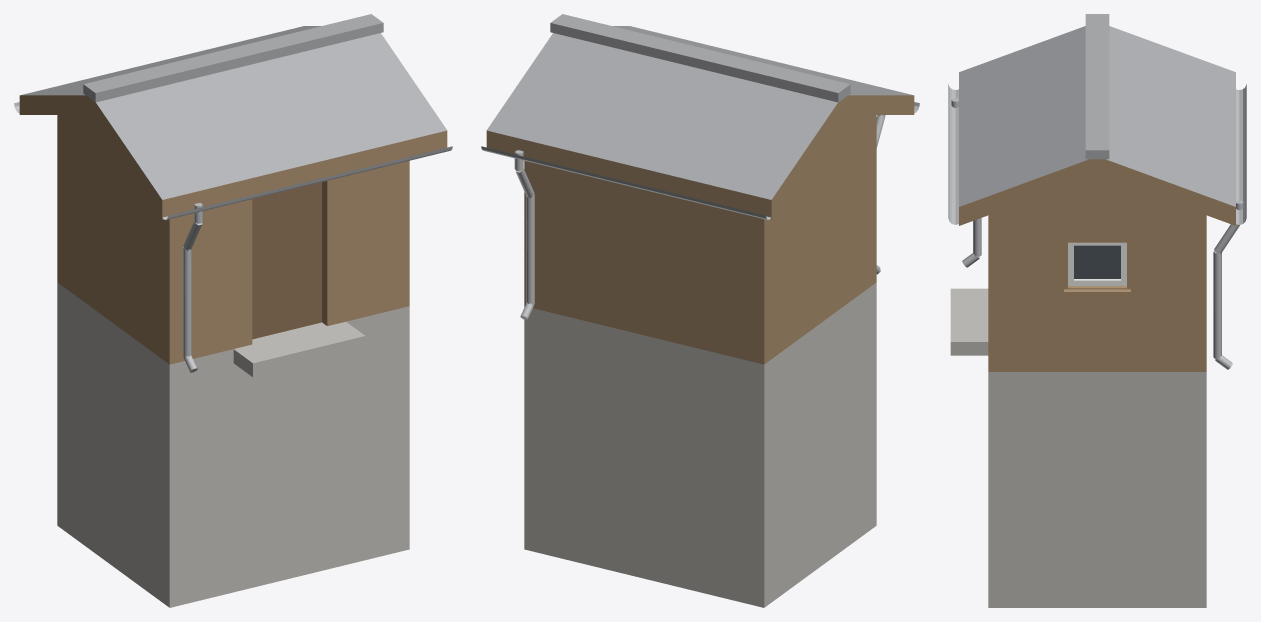
Rendered from shed_s.glb.
3 views of the same model, side by side, from view 1: azimuth 30°, elevation 25°; view 2: azimuth 150°, elevation 25°; view 3: azimuth 270°, elevation 25° (orthographic). The views are drawn at different scales.
Visible parts, largest first — view 1: shed_s; view 2: shed_s; view 3: shed_s.
Boxes of the visible parts, <box> form: shed_s: <box>14,14,452,607</box>; shed_s: <box>481,14,919,607</box>; shed_s: <box>948,14,1246,607</box>.
Size of the model in its own units: 3.84 by 6.17 by 3.55.
